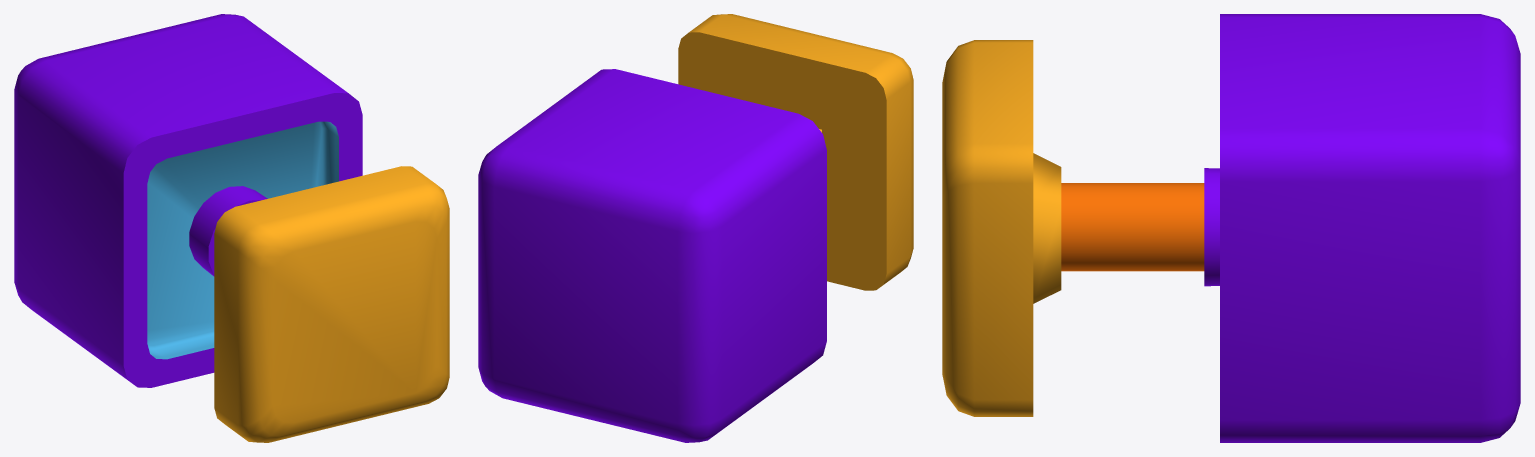
Rendered from Obstacle_Pusher_01.fbx.
3 renders of one model, left to right at view 1: azimuth 30°, elevation 25°; view 2: azimuth 150°, elevation 25°; view 3: azimuth 270°, elevation 25°, orthographic. The views are drawn at different scales.
Parts seen in each view (by area): view 1: Obstacle_Pusher_01, Obstacle_Pusher_01_Head; view 2: Obstacle_Pusher_01, Obstacle_Pusher_01_Head; view 3: Obstacle_Pusher_01, Obstacle_Pusher_01_Head.
Boxes of the visible parts, left/top/right/bottom form: Obstacle_Pusher_01: left=14, top=14, right=362, bottom=387; Obstacle_Pusher_01_Head: left=214, top=166, right=449, bottom=442; Obstacle_Pusher_01: left=478, top=69, right=826, bottom=442; Obstacle_Pusher_01_Head: left=678, top=14, right=913, bottom=290; Obstacle_Pusher_01: left=1204, top=14, right=1520, bottom=442; Obstacle_Pusher_01_Head: left=942, top=40, right=1204, bottom=416.
Bounding box in the file's own units: 112 × 112 × 190.
